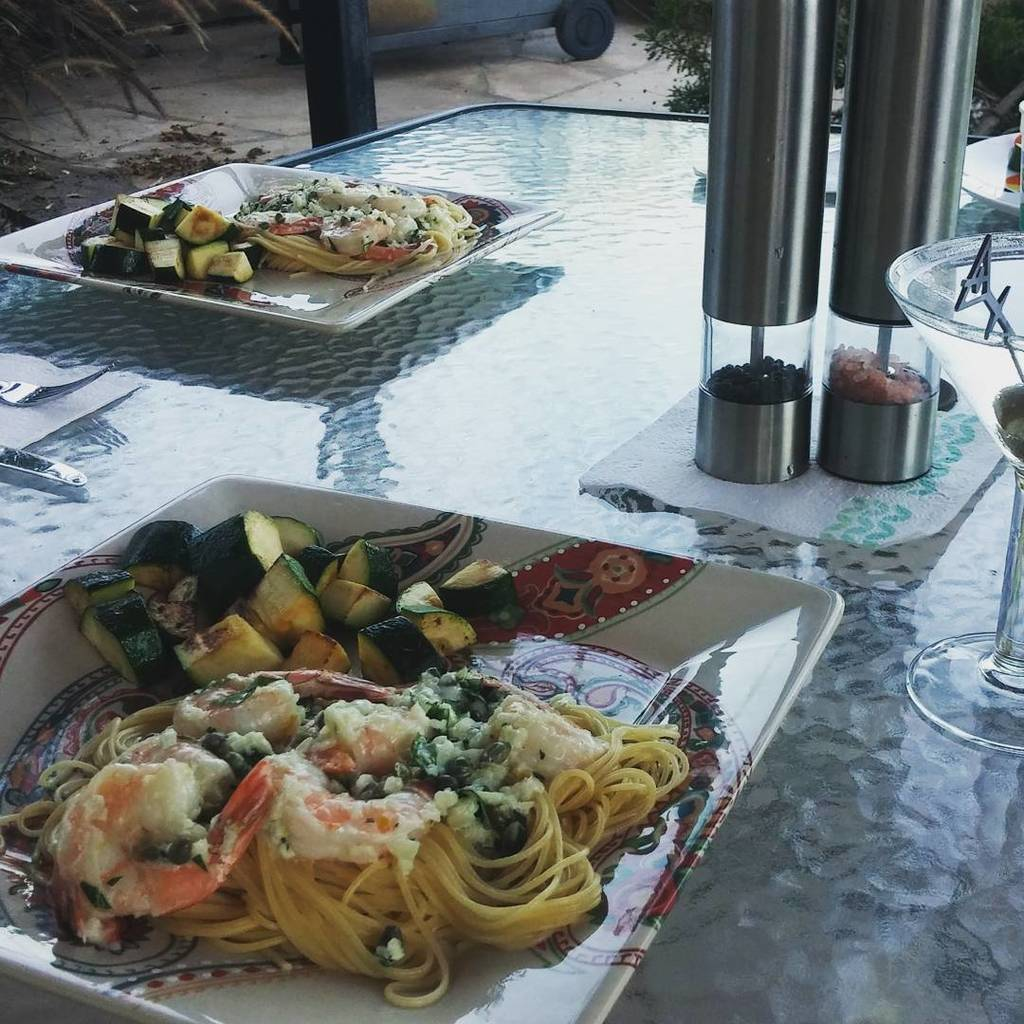pasta: (28, 610, 691, 984)
